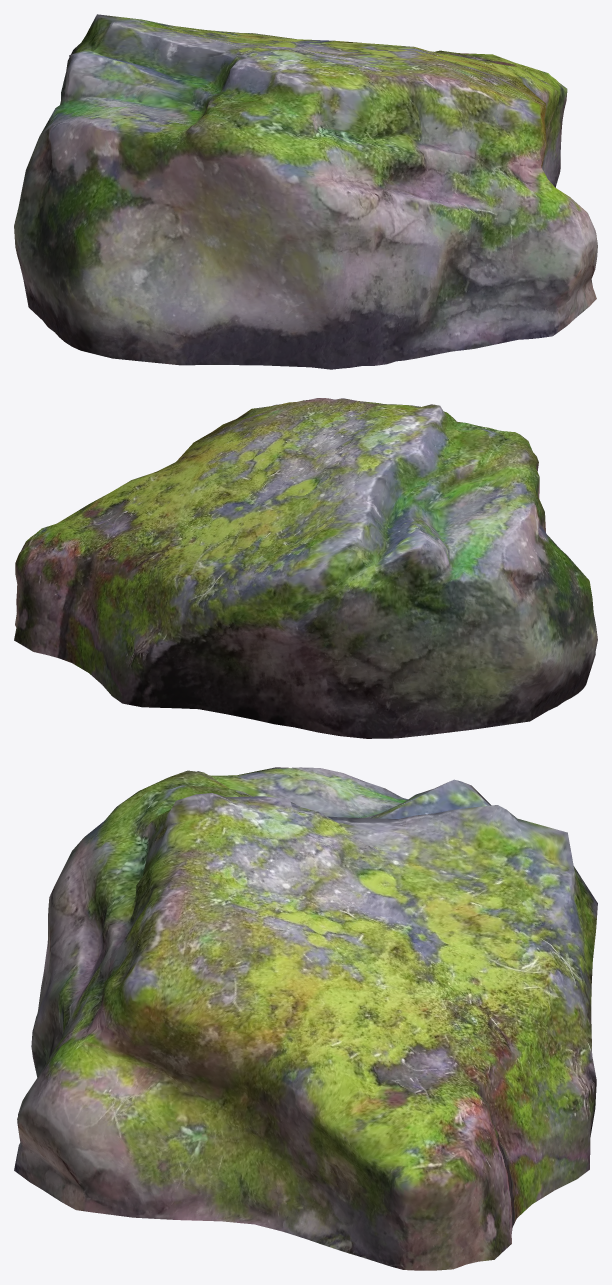
The model's file is mossy_rock.glb.
3 renders of one model, top to bottom at view 1: azimuth 30°, elevation 25°; view 2: azimuth 150°, elevation 25°; view 3: azimuth 270°, elevation 25°, orthographic. The views are drawn at different scales.
Visible parts, largest first — view 1: Object_2; view 2: Object_2; view 3: Object_2.
Boxes of the visible parts, x1,y1,x2,y2 form: Object_2: (14, 14, 597, 369); Object_2: (14, 398, 597, 738); Object_2: (14, 767, 597, 1270).
Bounding box in the file's own units: 1.48 × 0.6022 × 1.16.
1 material, 1 textured.
